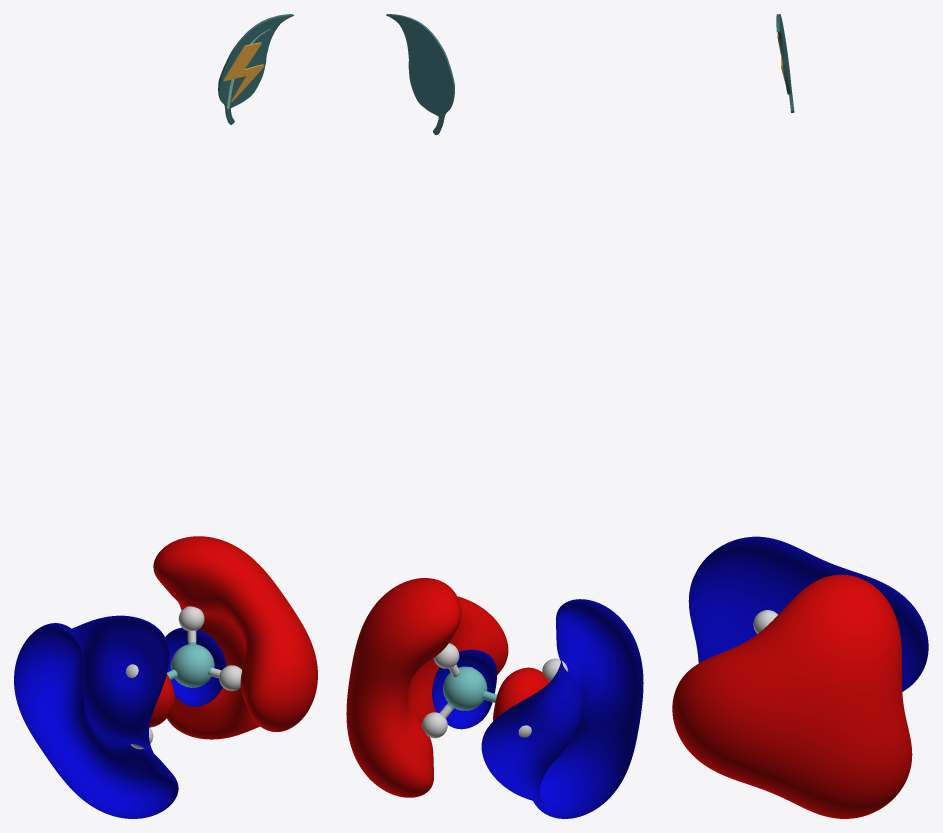
Rendered from c2h6_sim_ae.glb.
3 views of the same model, side by side, from view 1: azimuth 30°, elevation 25°; view 2: azimuth 150°, elevation 25°; view 3: azimuth 270°, elevation 25° (orthographic). The views are drawn at different scales.
Visible parts, largest first — view 1: c2h6_sim_ae, path182, path186; view 2: c2h6_sim_ae, path182; view 3: c2h6_sim_ae, path182.
Part boxes in pixels (bbox=[...]): c2h6_sim_ae: bbox=[14, 536, 317, 818]; path182: bbox=[218, 14, 293, 124]; path186: bbox=[223, 42, 264, 102]; c2h6_sim_ae: bbox=[346, 578, 643, 818]; path182: bbox=[386, 14, 454, 135]; c2h6_sim_ae: bbox=[672, 536, 928, 818]; path182: bbox=[776, 14, 794, 112].
Bounding box in the file's own units: 2.11 × 6.04 × 1.68.
